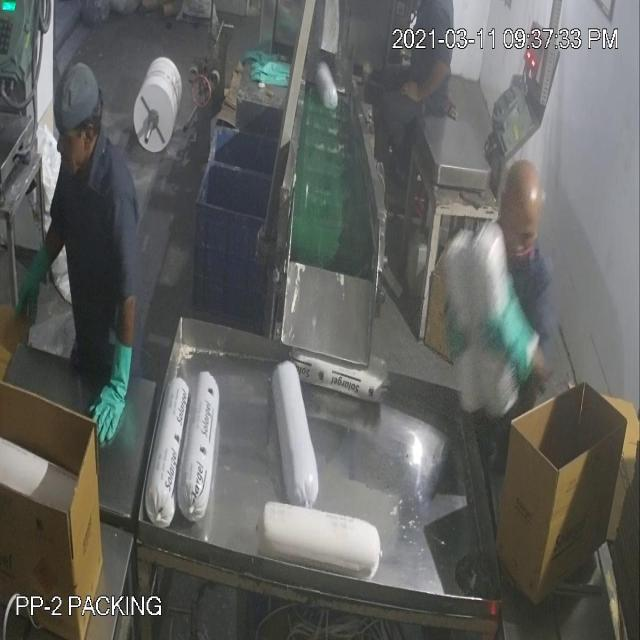gloves: (78, 327, 160, 454), (11, 229, 64, 346)
no-gloves: (402, 56, 458, 117)
